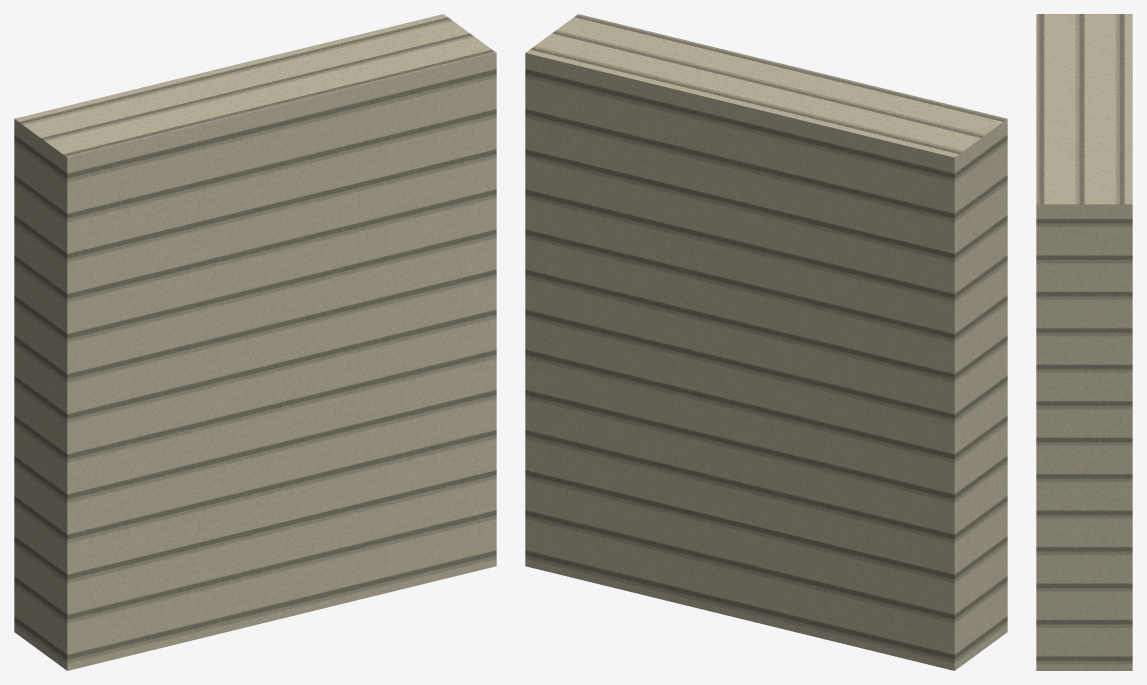
Rendered from fastener_bin_wall.glb.
The picture shows the model from 3 angles, left to right: view 1: azimuth 30°, elevation 25°; view 2: azimuth 150°, elevation 25°; view 3: azimuth 270°, elevation 25°; orthographic projection. The views are drawn at different scales.
Parts seen in each view (by area): view 1: fastener_bin_wall-col; view 2: fastener_bin_wall-col; view 3: fastener_bin_wall-col.
Boxes of the visible parts, x1,y1,x2,y2 form: fastener_bin_wall-col: (14, 14, 496, 670); fastener_bin_wall-col: (525, 14, 1007, 670); fastener_bin_wall-col: (1036, 14, 1132, 670).
Bounding box in the file's own units: 1.4 × 1.6 × 0.3.
Materials: 1 (1 with a texture image).
